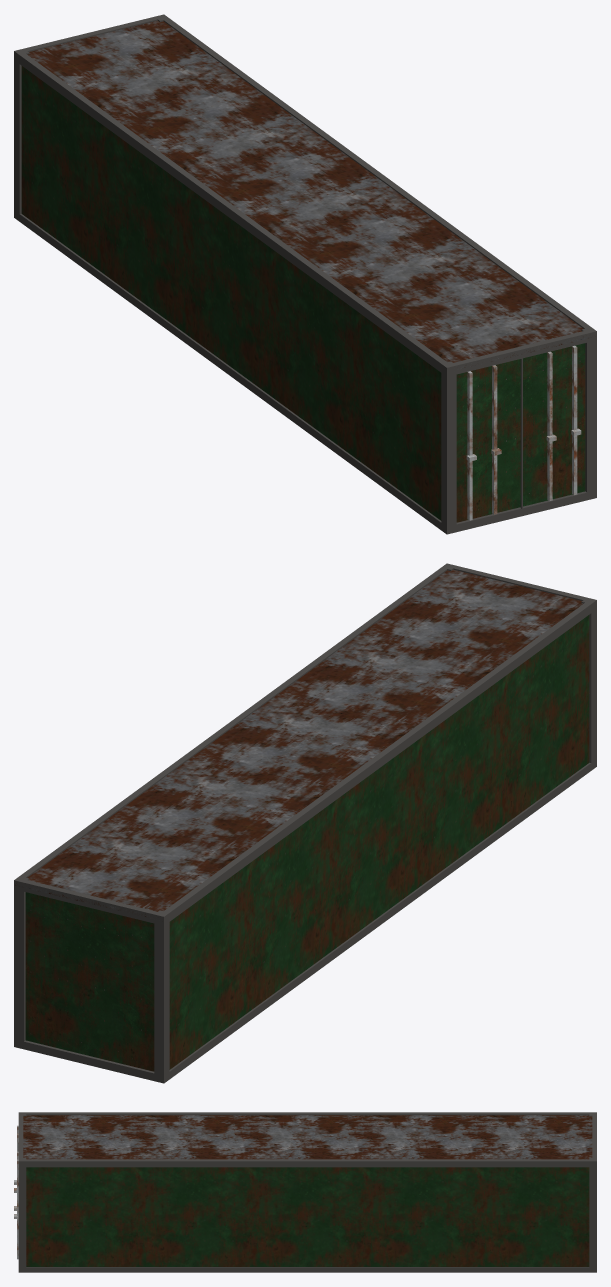
File: container_40_verde.glb
3 renders of one model, top to bottom at view 1: azimuth 30°, elevation 25°; view 2: azimuth 150°, elevation 25°; view 3: azimuth 270°, elevation 25°, orthographic. The views are drawn at different scales.
Parts seen in each view (by area): view 1: cont_verde; view 2: cont_verde; view 3: cont_verde.
Part boxes in pixels (x1=…): cont_verde: x1=14, y1=14, x2=596, y2=534; cont_verde: x1=14, y1=563, x2=596, y2=1083; cont_verde: x1=14, y1=1112, x2=596, y2=1272.
Bounding box in the file's own units: 2.44 × 2.59 × 12.29.
4 materials, 3 textured.
